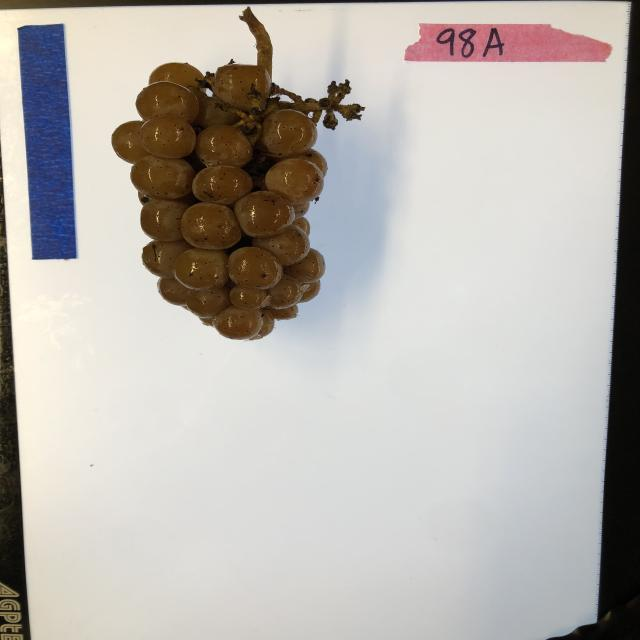grape_cluster: (110, 4, 367, 343)
index: (403, 23, 614, 63)
measure_label: (16, 23, 80, 261)
